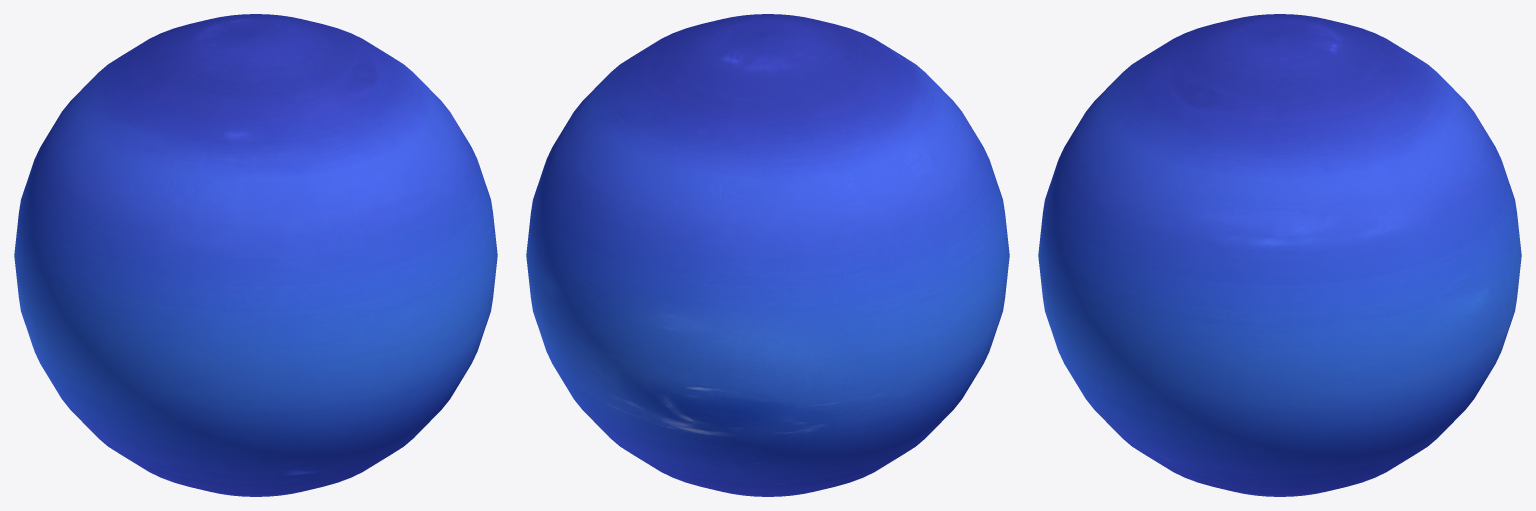
The model's file is neptune.glb.
3 renders of one model, left to right at view 1: azimuth 30°, elevation 25°; view 2: azimuth 150°, elevation 25°; view 3: azimuth 270°, elevation 25°, orthographic.
Parts seen in each view (by area): view 1: Neptune; view 2: Neptune; view 3: Neptune.
Boxes of the visible parts, x1,y1,x2,y2 form: Neptune: [14, 14, 497, 496]; Neptune: [526, 14, 1009, 496]; Neptune: [1038, 14, 1521, 496].
Size of the model in its own units: 246 by 246 by 246.
Materials: 1 (1 with a texture image).
